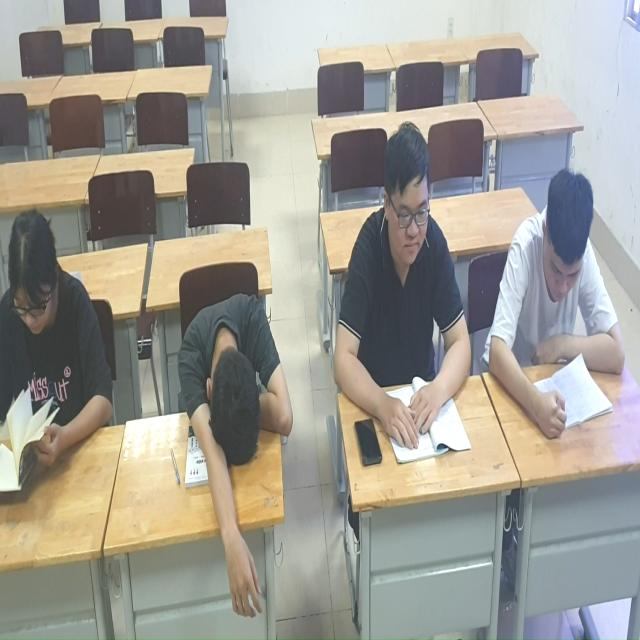read: (345, 109, 473, 449), (498, 156, 635, 440), (1, 204, 128, 502)
sleep: (178, 278, 298, 623)
